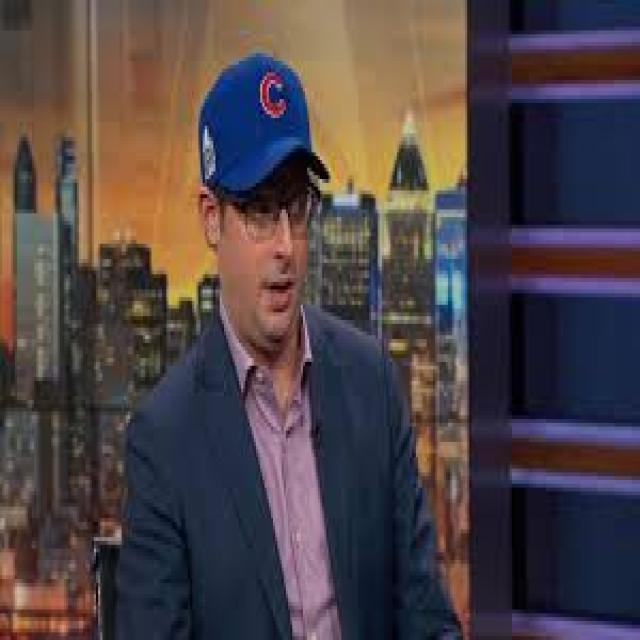cap: (179, 31, 344, 290)
